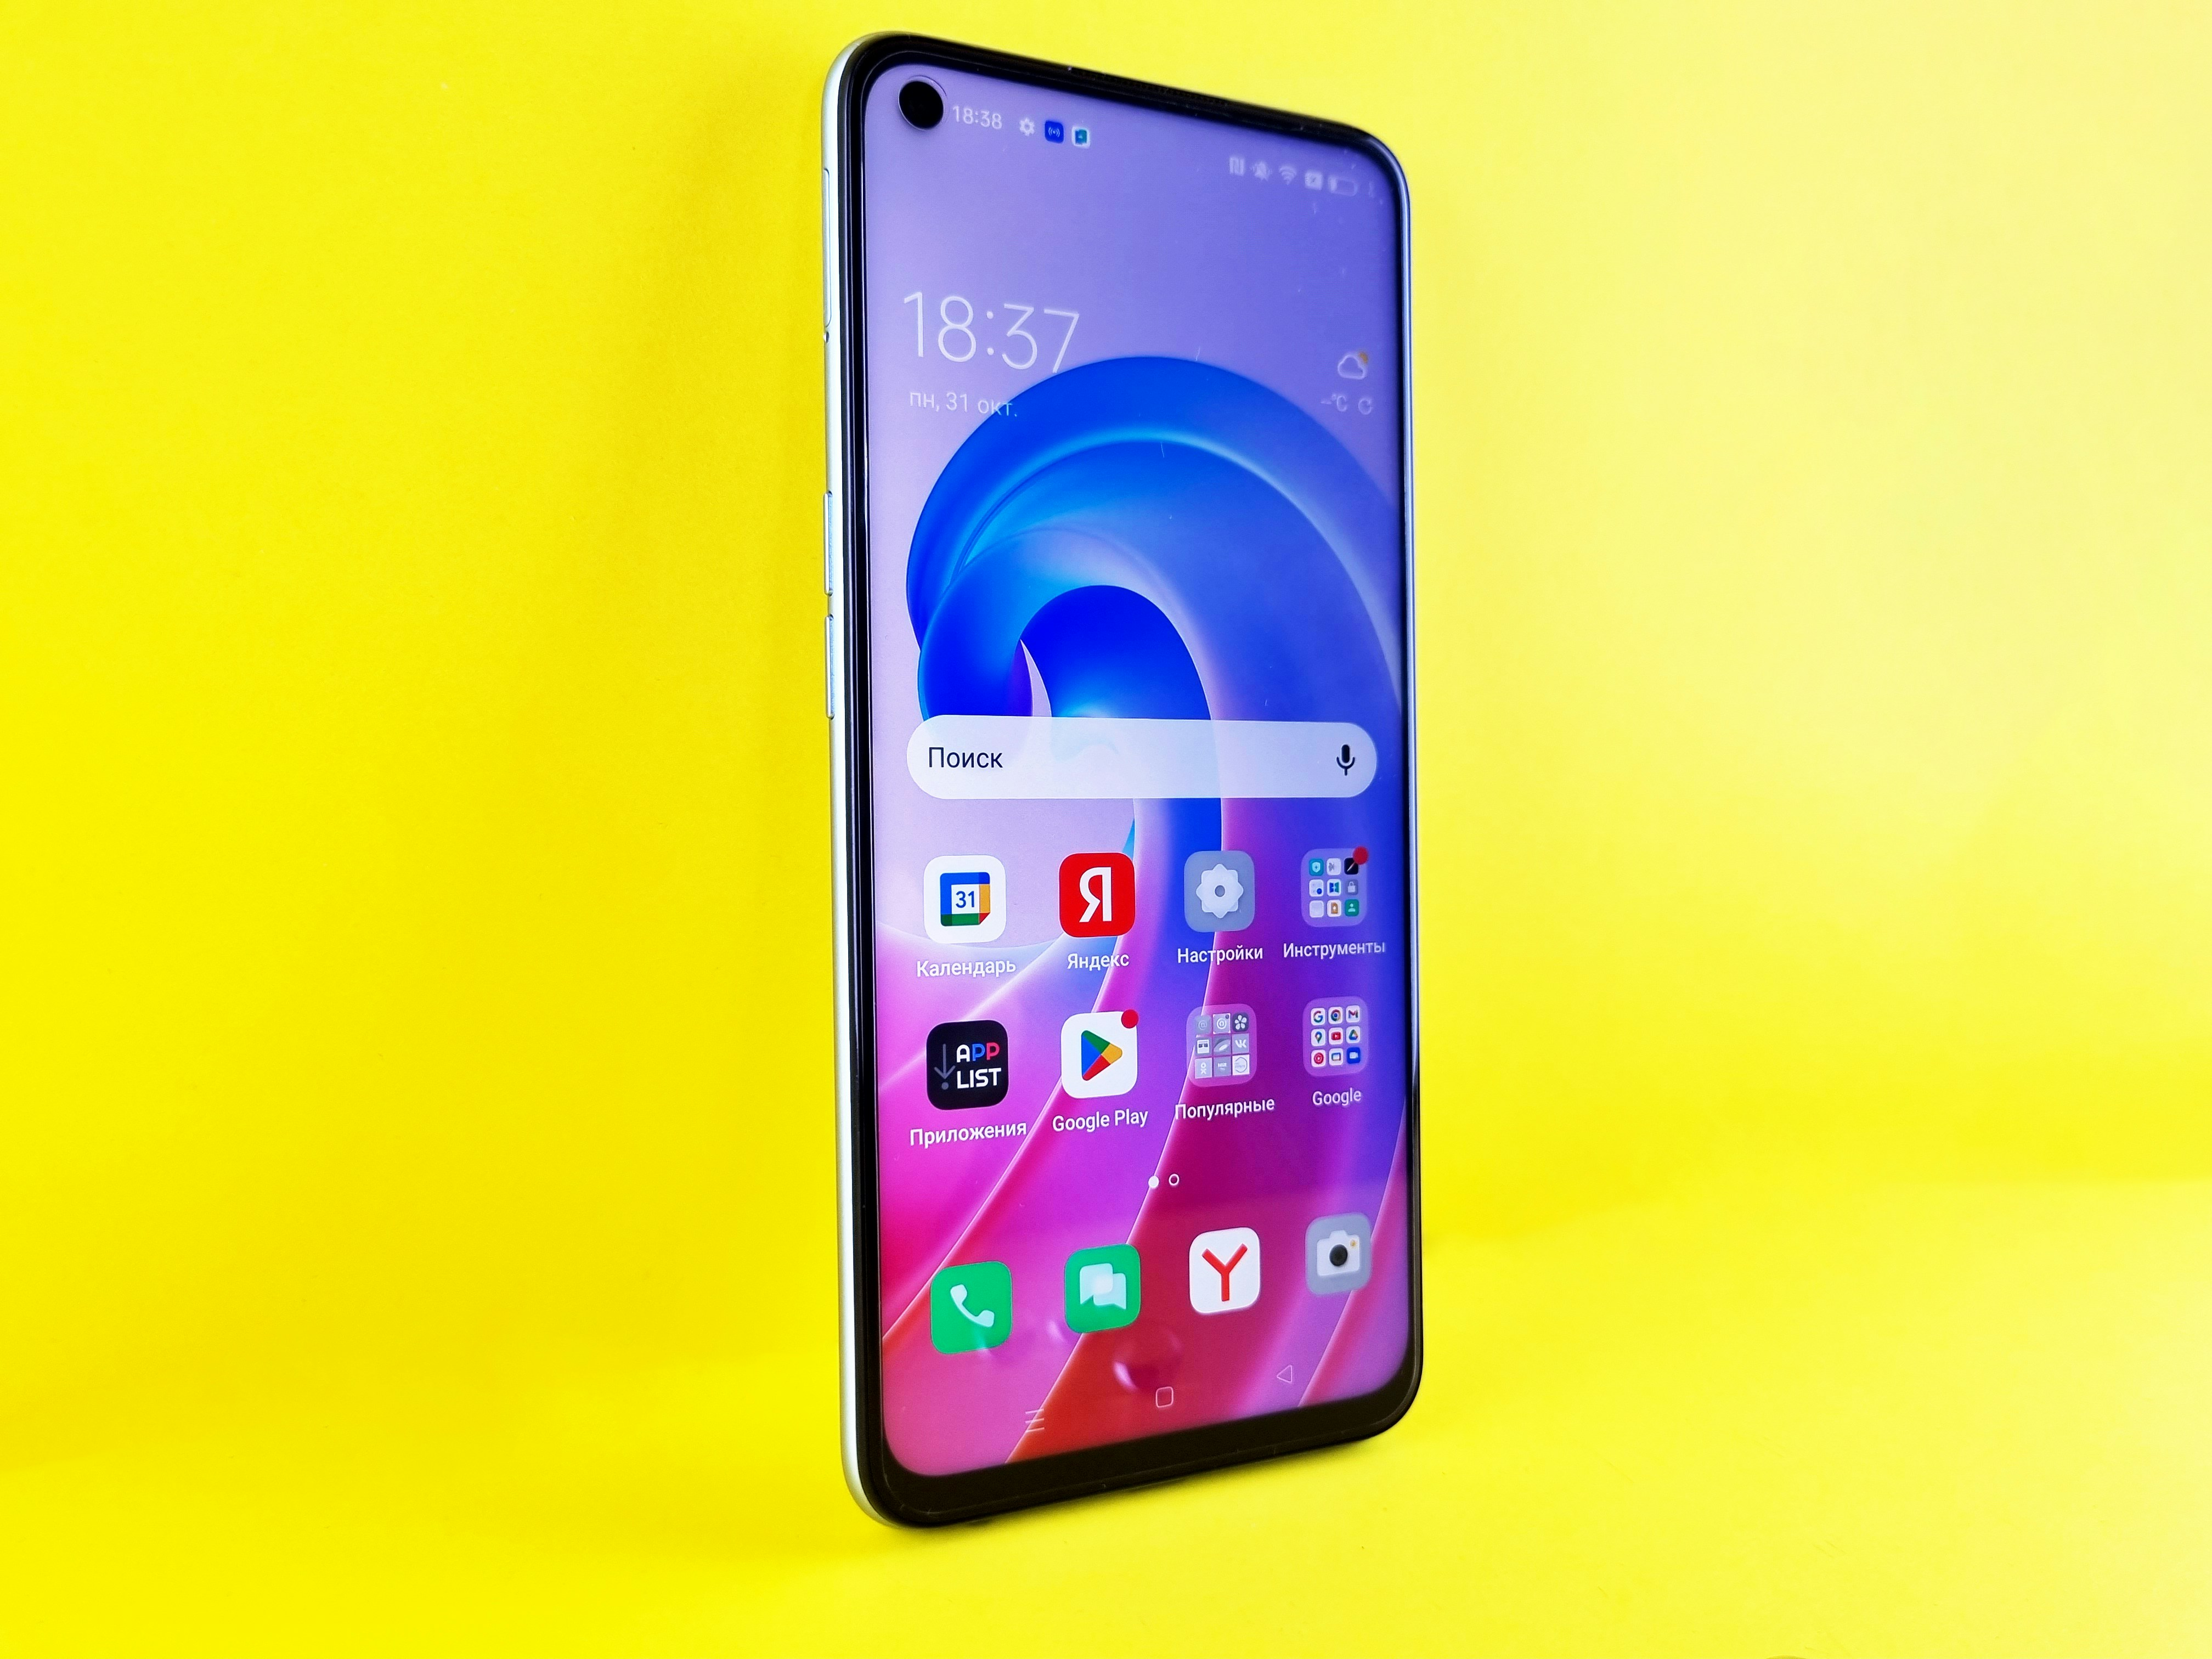p6: (805, 12, 1451, 1539)
